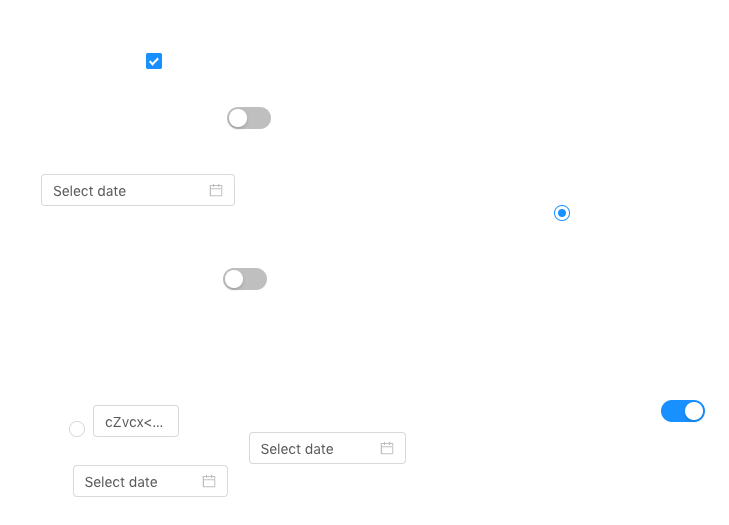Checkbox: (146, 50, 162, 71)
DatePicker: (41, 174, 235, 206), (249, 432, 406, 464), (73, 465, 228, 497)
Input: (93, 405, 179, 437)
Radio: (554, 202, 570, 222), (69, 418, 85, 438)
Switch: (661, 399, 705, 423), (227, 106, 271, 130), (223, 267, 267, 291)
